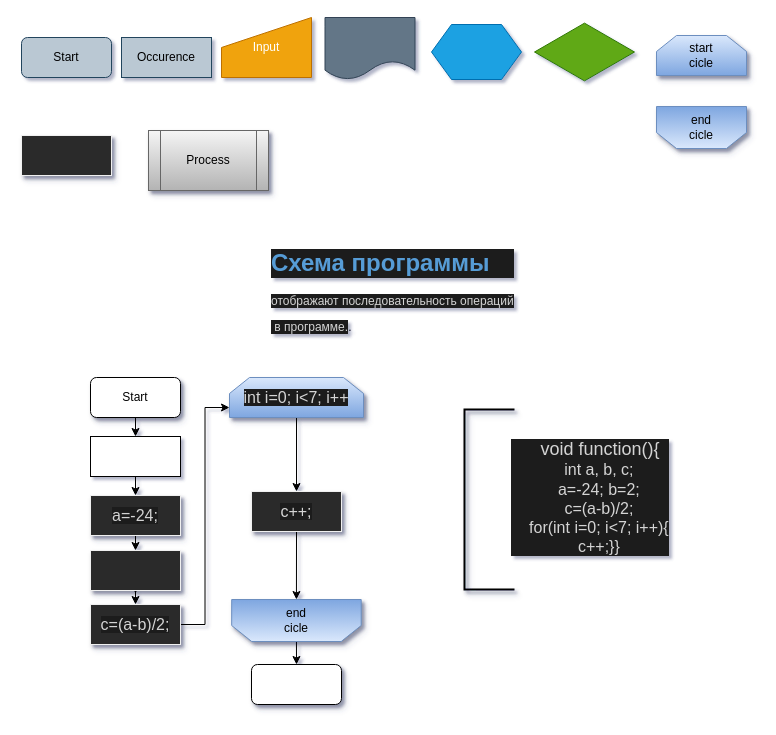
This 776x735 diagram has some shape labels left out. The shapes that lost their labels are listed below. From the top down, each one's centre as x and y in pixels, then its label:
At (369,48): "Output".
At (476,52): "Loop".
At (584,51): "Condition".
At (135,456): "int a, b, с;".
At (136,572): "b=2;".
At (297,686): "End".
